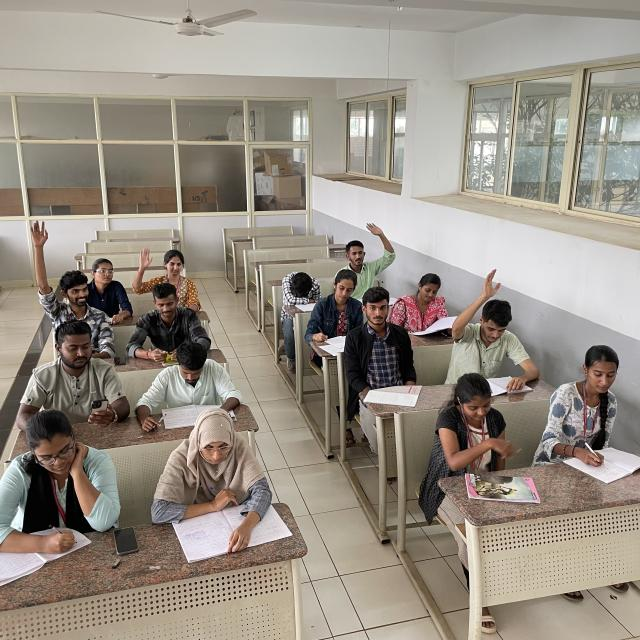Hand Rising: (450, 266, 534, 376), (23, 225, 106, 331), (129, 247, 198, 310), (342, 220, 393, 286)
Reading: (146, 408, 275, 545), (134, 346, 255, 421), (400, 271, 462, 338)
Sleeping: (282, 266, 328, 304)
Using Phone: (21, 317, 132, 429), (131, 284, 210, 362)
Writing: (0, 411, 109, 566), (545, 345, 640, 480), (307, 271, 363, 352)
